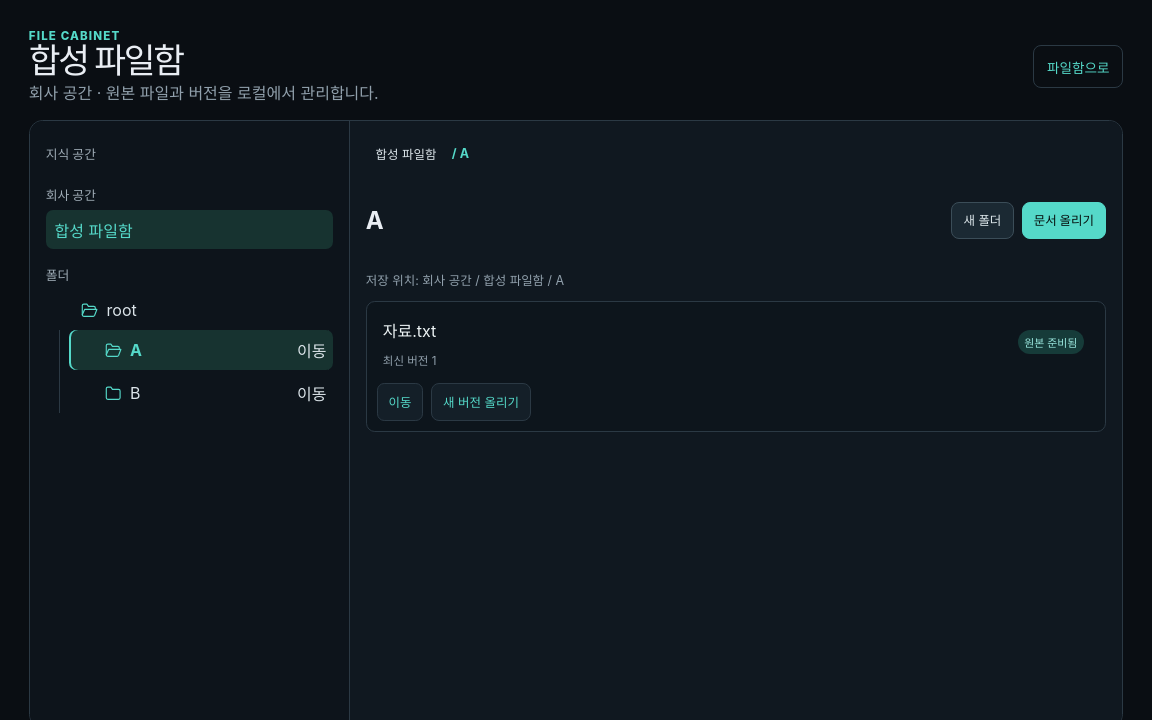
requires a destination and explicit confirmation then posts the captured revision
What coordinates should you click on to do the following:
click the button with aria-label "자료.txt 이동"
I would click on:
 (400, 402)
Its box is [377, 383, 423, 421].
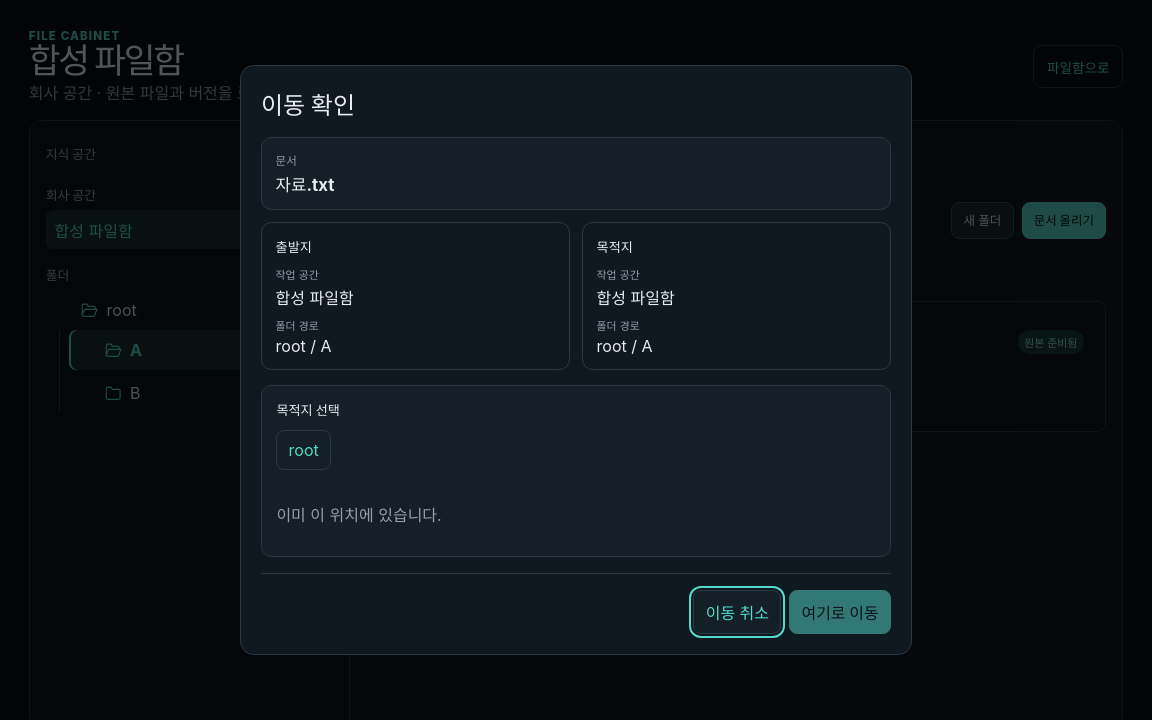
What coordinates should you click on to do the following:
click the button "root"
I would click on:
 (304, 450)
Its box is [276, 430, 331, 470].
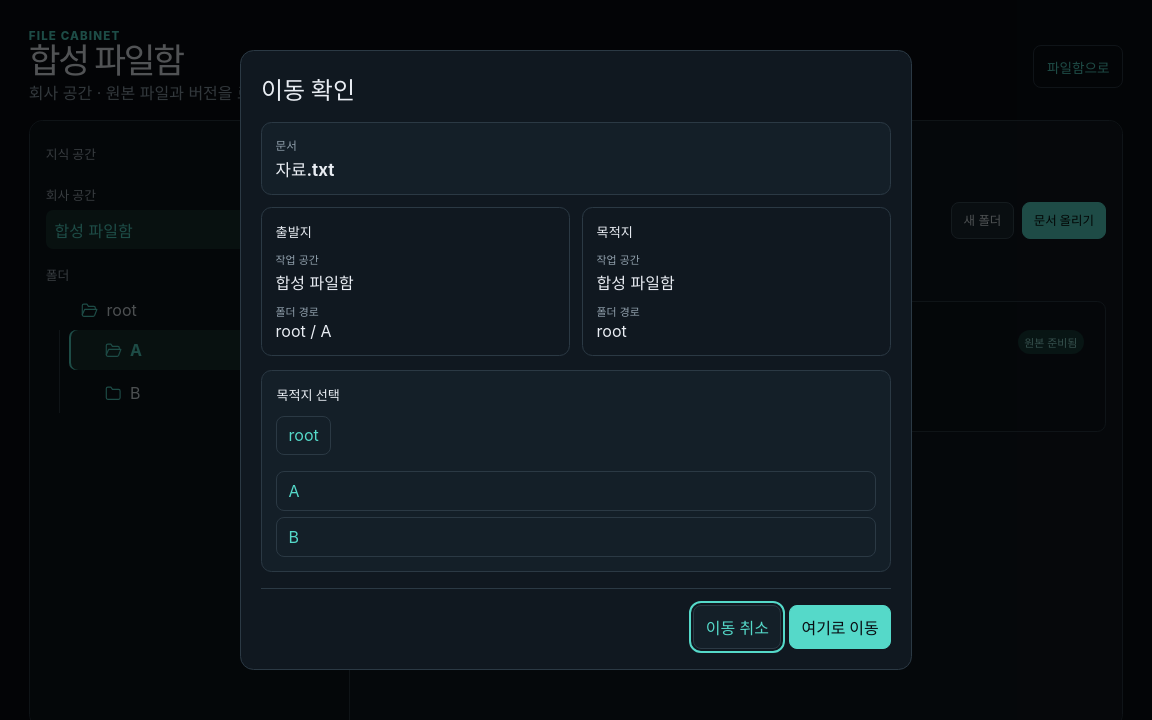
What coordinates should you click on to do the following:
click the button named "B 목적지 열기"
I would click on:
 (294, 537)
Its box is [276, 517, 876, 557].
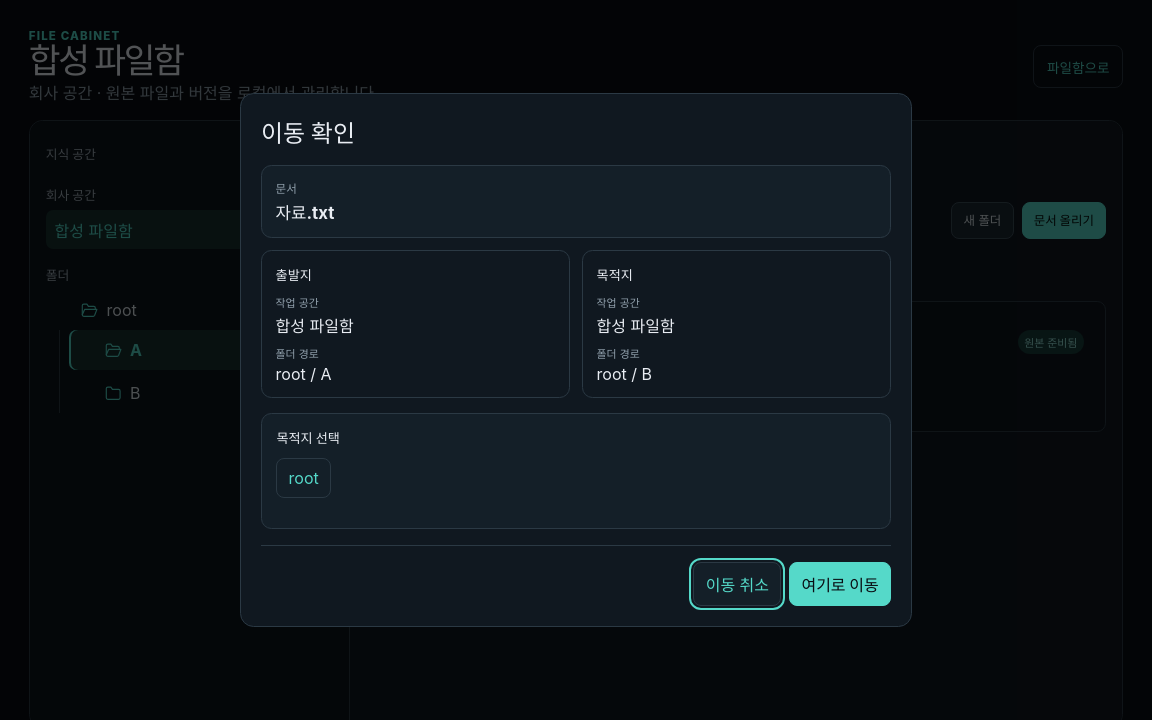
expect the button "여기로 이동" is enabled: met
What coordinates should you click on to do the following:
click the button "여기로 이동"
I would click on:
 (840, 584)
Its box is [789, 562, 891, 606].
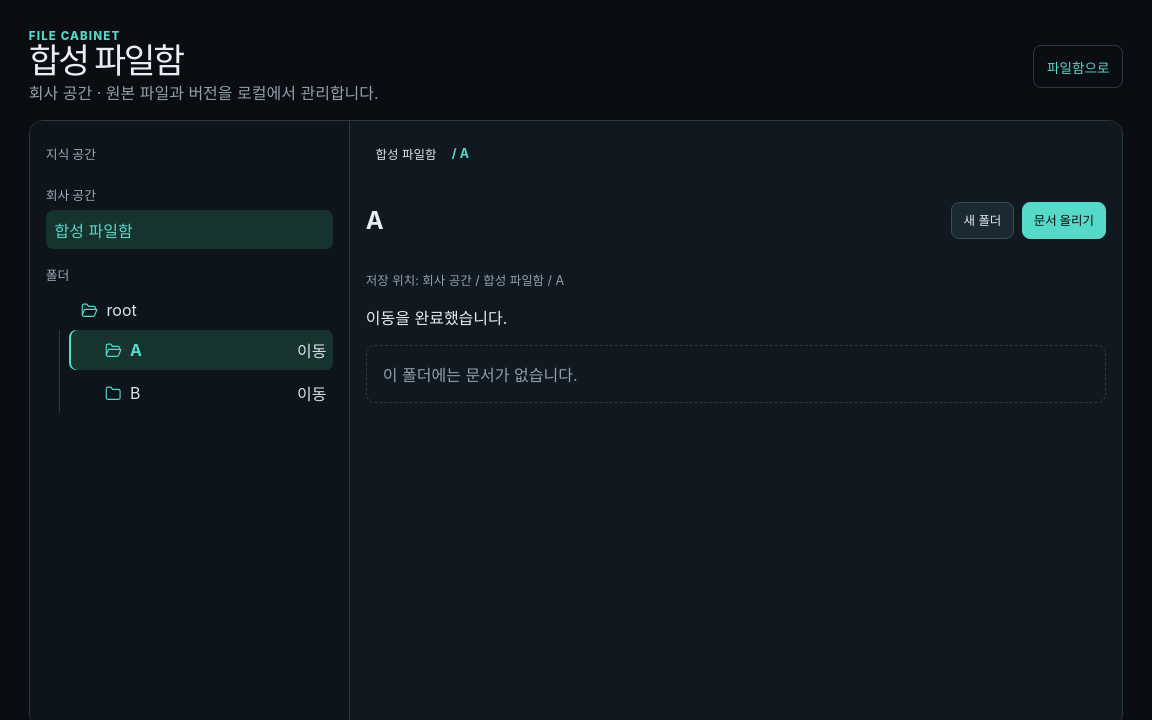
expect the dialog is gone: met
